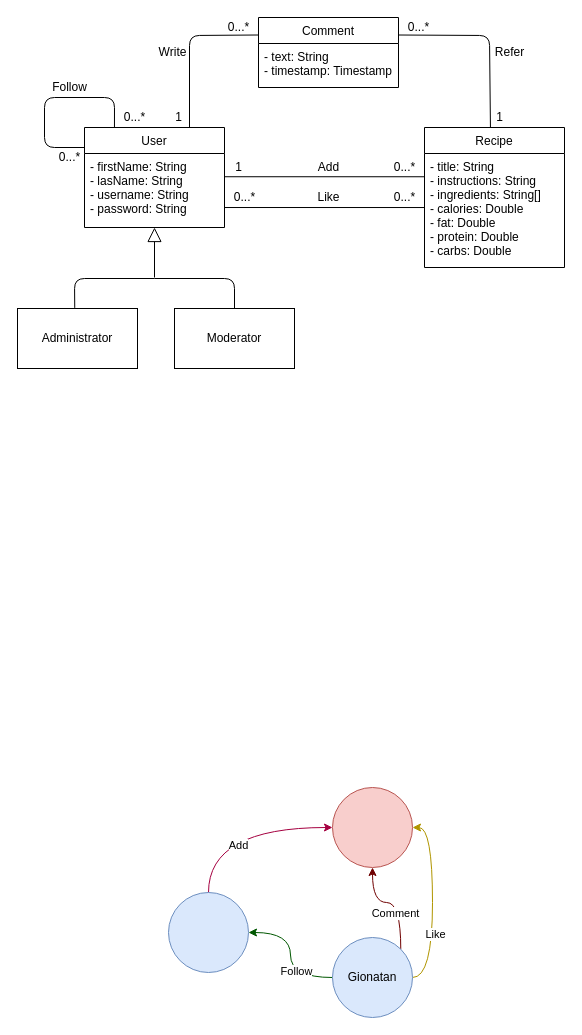
This 582x1035 diagram has some shape labels left out. Here are the shapes that lost their labels. From the top down, the centre of each, then its label:
At point 372,827: "Paella".
At point 208,932: "Pietro".
